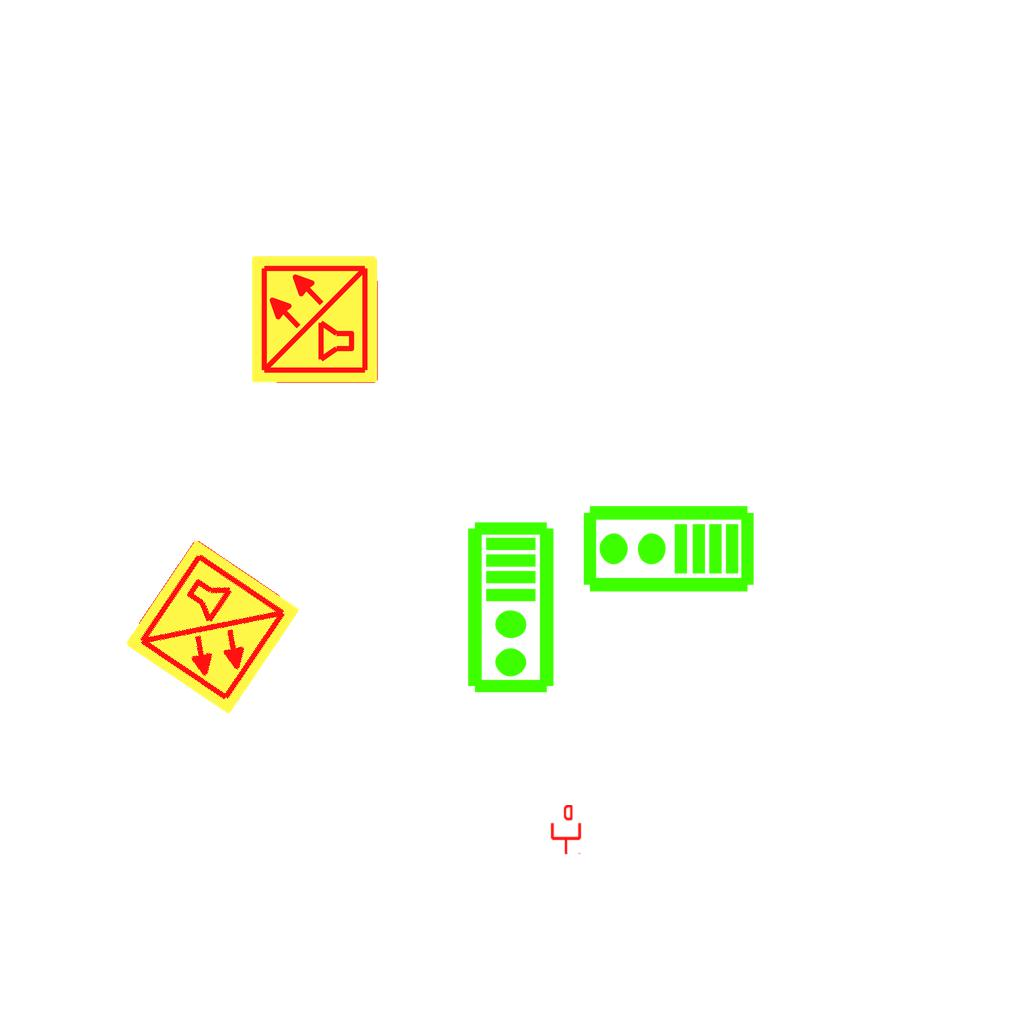Datenanschluss_einfach: (549, 805, 583, 855)
Gegensprechanlage_mit_Video: (465, 520, 560, 696), (580, 503, 756, 598)
OKW_Multisensormelder_(Kombination_optischer_Rauch-Kahlenmonoxid_Waerme-Melder): (120, 535, 304, 719), (249, 253, 381, 385)
